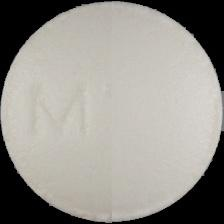0378-2610: (0, 0, 224, 224)
